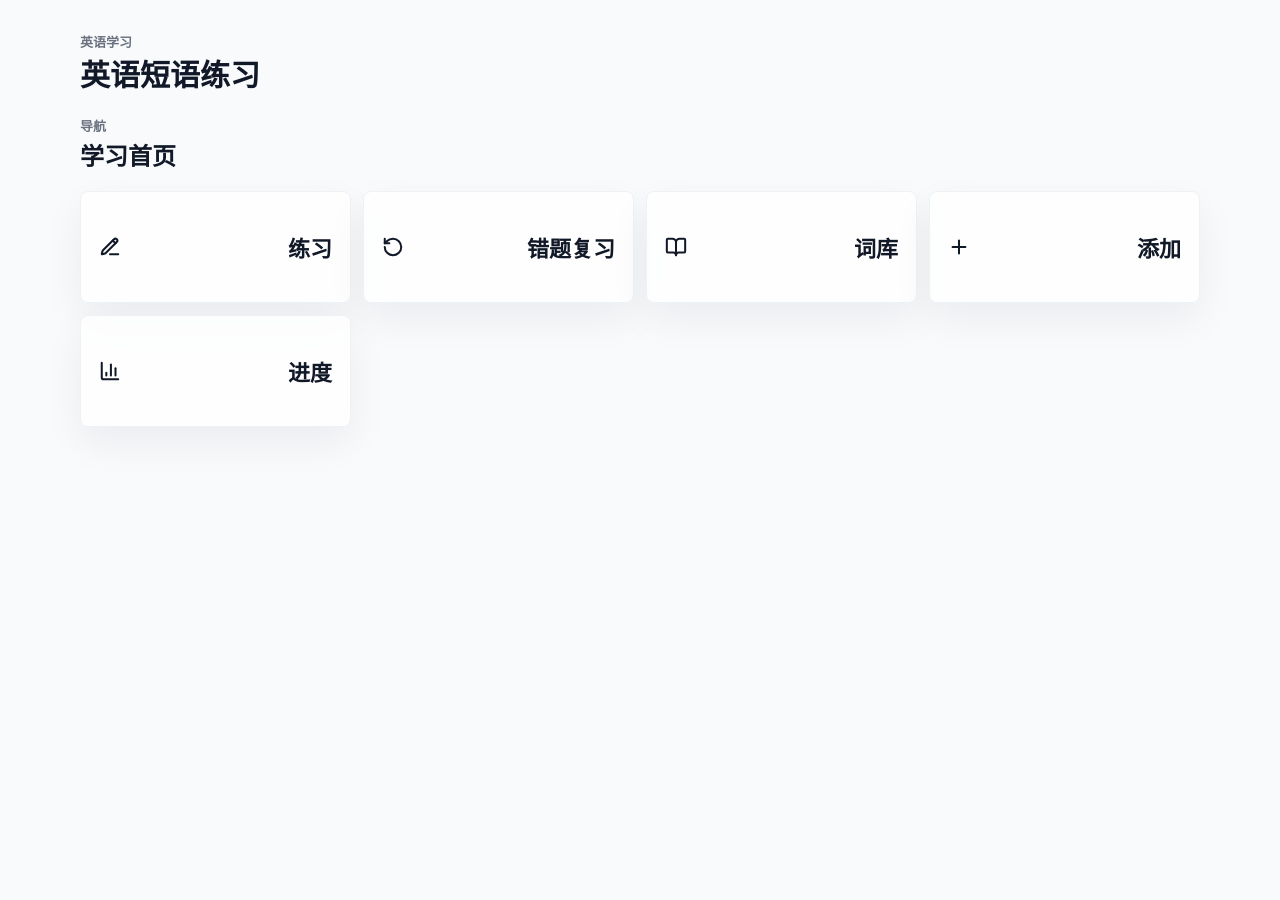
Test case: App › returns from a feature screen to the home navigation
Click the button "词库": (876,249) top-left (646, 191), bottom-right (917, 303)
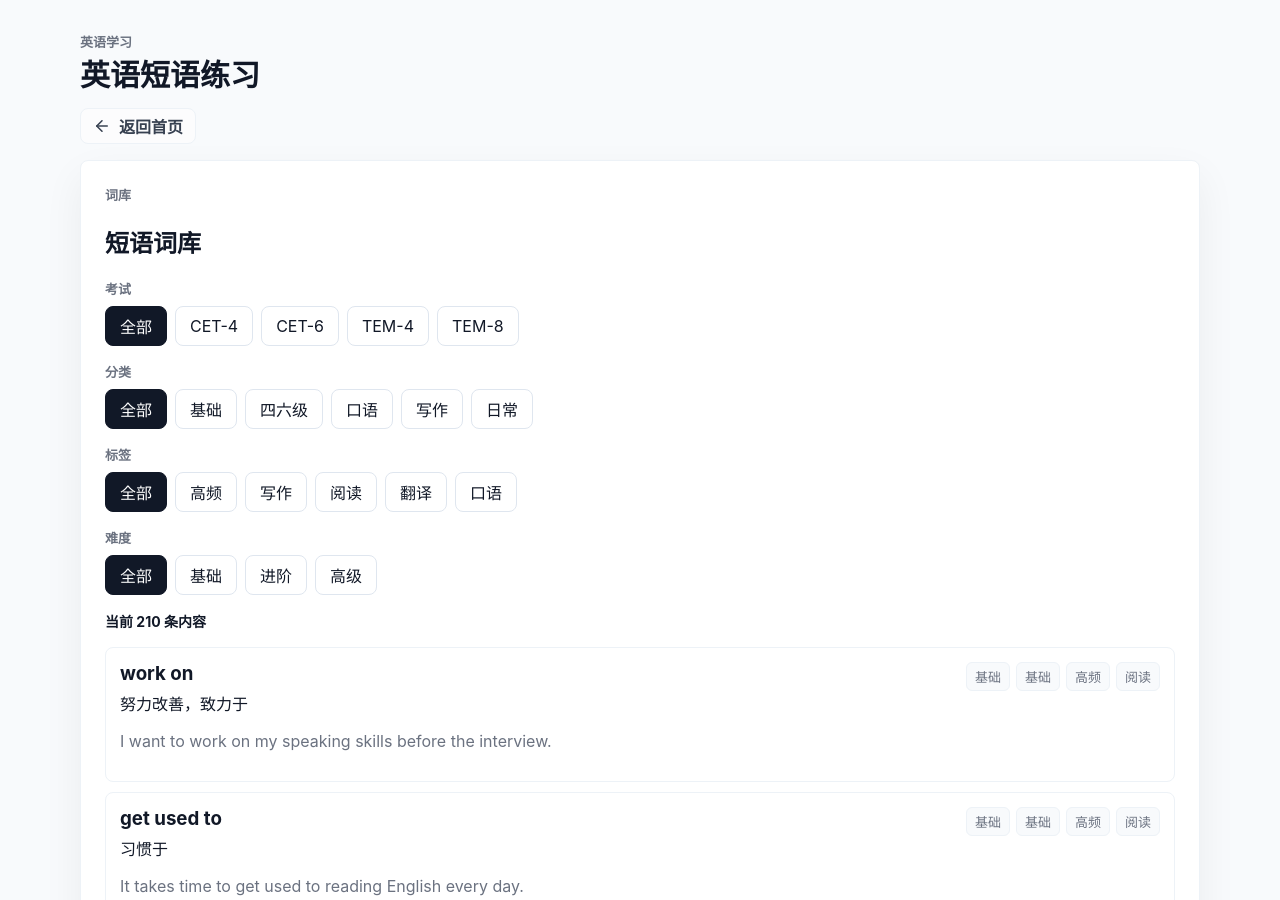
Expected: the heading "短语词库" is shown, top-left (105, 229), bottom-right (201, 258)
Click the button "返回首页": (138,126) top-left (80, 108), bottom-right (196, 144)
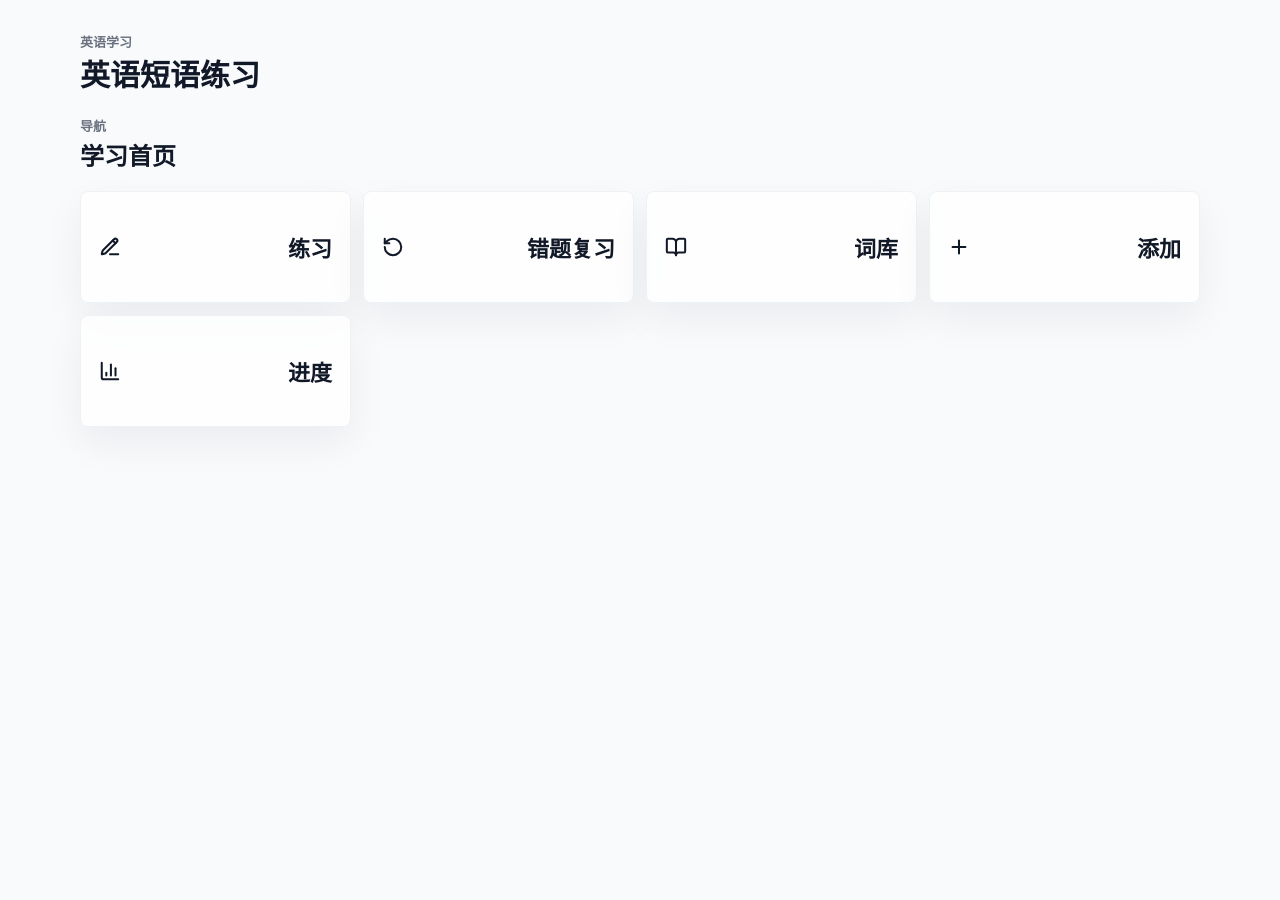
Expected: the heading "学习首页" is shown, top-left (80, 142), bottom-right (176, 171)
